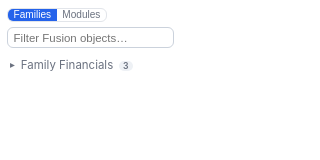
FusionExplorer view › switches to Modules grouping
Click the tab with class "ebsx__seg-btn" showing "Modules" at (81, 15), box [57,8,106,21]
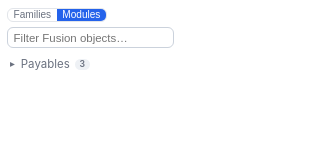
Now the text "Family Financials" is gone
